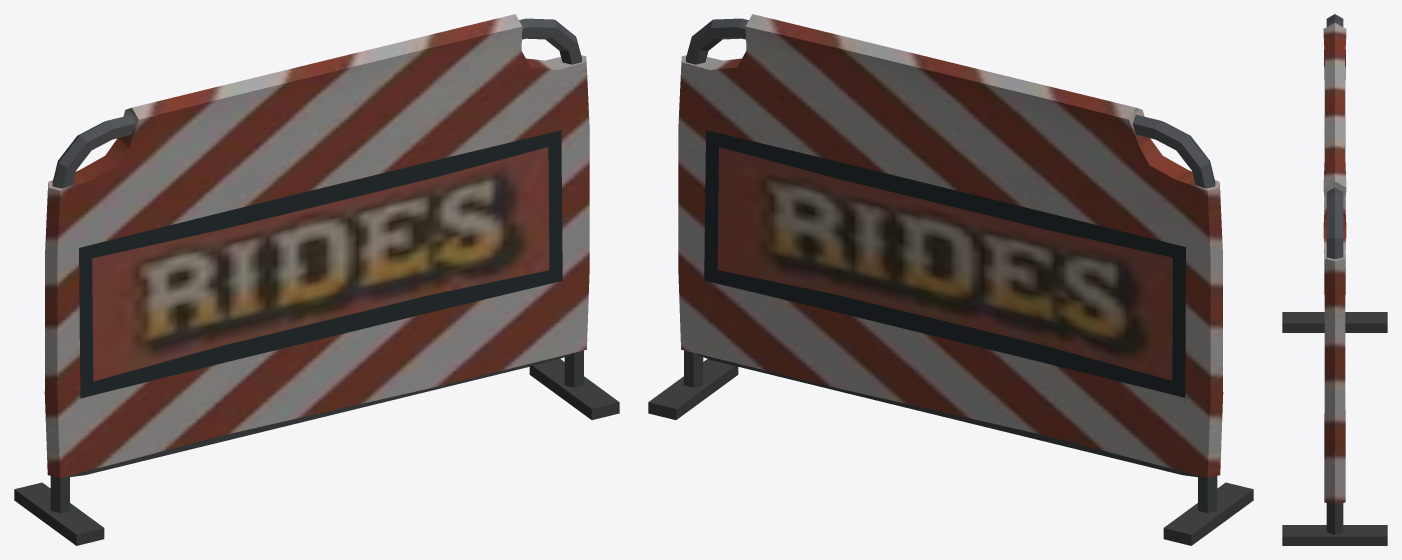
Rendered from barricade-3.glb.
3 views of the same model, side by side, from view 1: azimuth 30°, elevation 25°; view 2: azimuth 150°, elevation 25°; view 3: azimuth 270°, elevation 25° (orthographic). The views are drawn at different scales.
Parts seen in each view (by area): view 1: SM_Prop_Barricade_03; view 2: SM_Prop_Barricade_03; view 3: SM_Prop_Barricade_03.
Boxes of the visible parts, <box> form: SM_Prop_Barricade_03: <box>14,14,619,545</box>; SM_Prop_Barricade_03: <box>648,14,1253,545</box>; SM_Prop_Barricade_03: <box>1282,14,1387,545</box>.
Bounding box in the file's own units: 177 × 123 × 35.07.
1 material, 1 textured.
